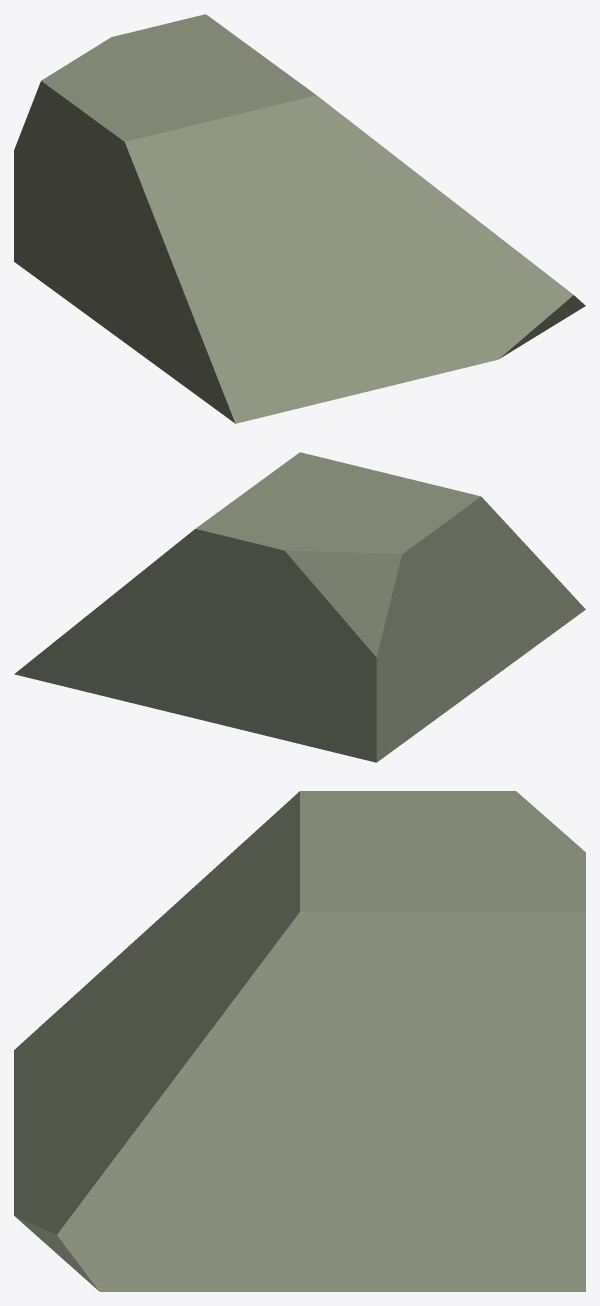
Rendered from wall_paneling_corner_low.fbx.
The picture shows the model from 3 angles, top to bottom: view 1: azimuth 30°, elevation 25°; view 2: azimuth 150°, elevation 25°; view 3: azimuth 270°, elevation 25°; orthographic projection. The views are drawn at different scales.
Visible parts, largest first — view 1: wall_paneling_corner_low; view 2: wall_paneling_corner_low; view 3: wall_paneling_corner_low.
Boxes of the visible parts, x1=… form: wall_paneling_corner_low: x1=14, y1=14, x2=585, y2=423; wall_paneling_corner_low: x1=14, y1=452, x2=585, y2=762; wall_paneling_corner_low: x1=14, y1=791, x2=585, y2=1291.
Size of the model in its own units: 50 by 25 by 50.
